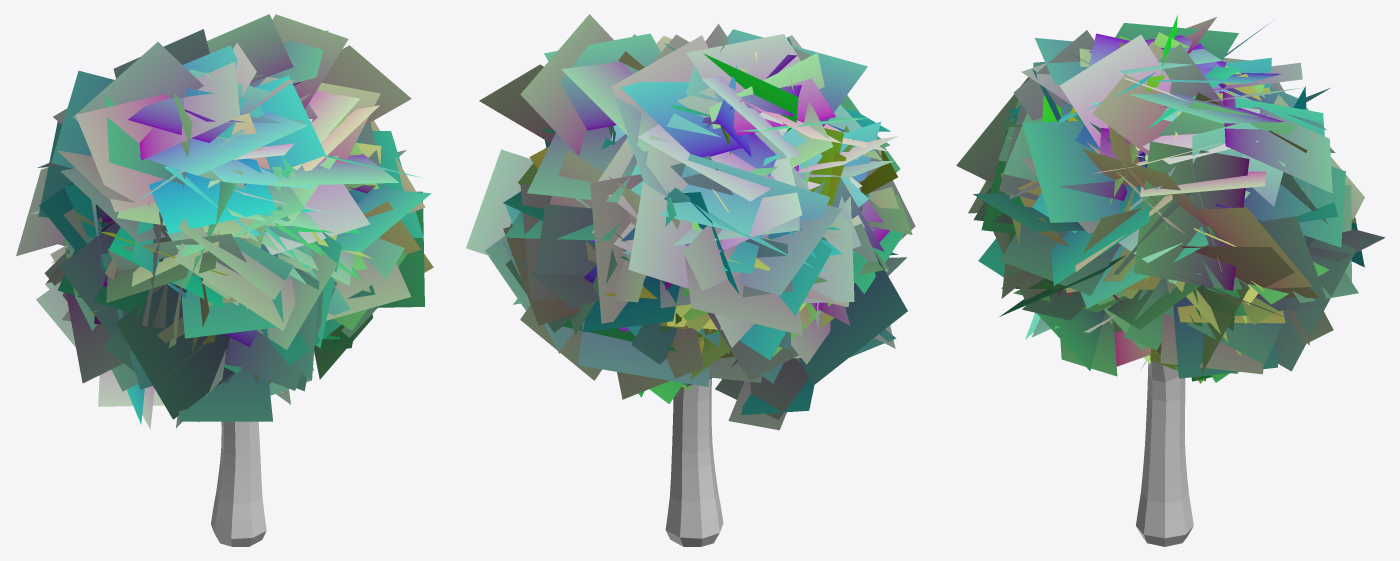
The model's file is tree_oak.glb.
3 views of the same model, side by side, from view 1: azimuth 30°, elevation 25°; view 2: azimuth 150°, elevation 25°; view 3: azimuth 270°, elevation 25° (orthographic). The views are drawn at different scales.
Visible parts, largest first — view 1: leaves, tree_oak; view 2: leaves, tree_oak; view 3: leaves, tree_oak.
Boxes of the visible parts, x1=… form: leaves: x1=16, y1=14, x2=433, y2=429; tree_oak: x1=211, y1=421, x2=266, y2=546; leaves: x1=466, y1=14, x2=915, y2=430; tree_oak: x1=665, y1=378, x2=723, y2=546; leaves: x1=956, y1=14, x2=1385, y2=383; tree_oak: x1=1136, y1=355, x2=1193, y2=546.
Size of the model in its own units: 4.72 by 5.6 by 4.37.
